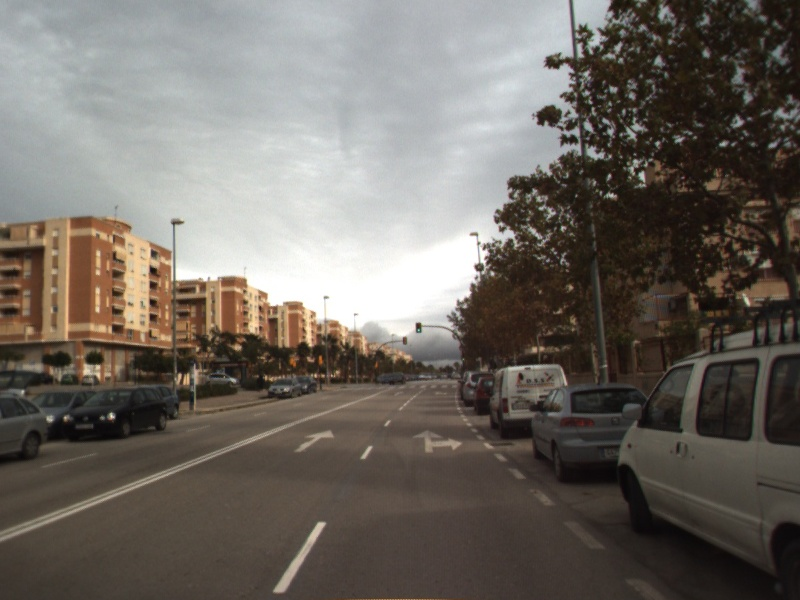STRAIGHT: (292, 427, 336, 454)
STRAIGHT_RIGHT: (411, 428, 465, 455)
